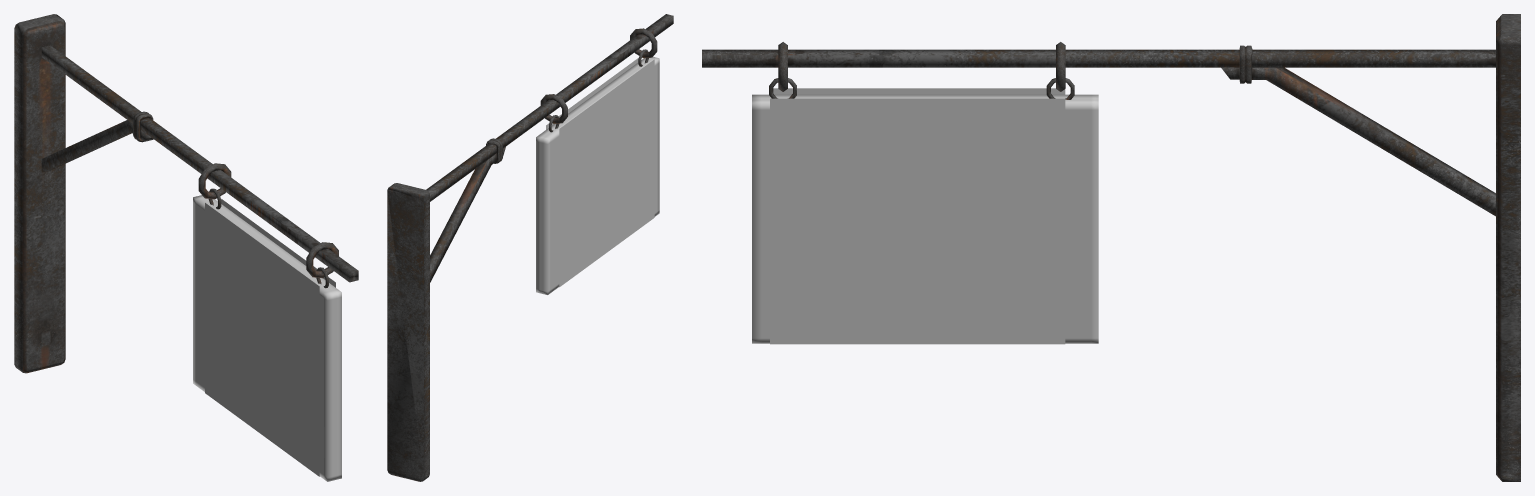
File: SignMerchant_mdl.fbx
3 views of the same model, side by side, from view 1: azimuth 30°, elevation 25°; view 2: azimuth 150°, elevation 25°; view 3: azimuth 270°, elevation 25° (orthographic). The views are drawn at different scales.
Visible parts, largest first — view 1: SignMerchant_LOD0; view 2: SignMerchant_LOD0; view 3: SignMerchant_LOD0.
Boxes of the visible parts, x1,y1,x2,y2 form: SignMerchant_LOD0: (14, 14, 358, 481); SignMerchant_LOD0: (387, 14, 673, 481); SignMerchant_LOD0: (702, 14, 1520, 481).
Size of the model in its own units: 16.19 by 121 by 202.
